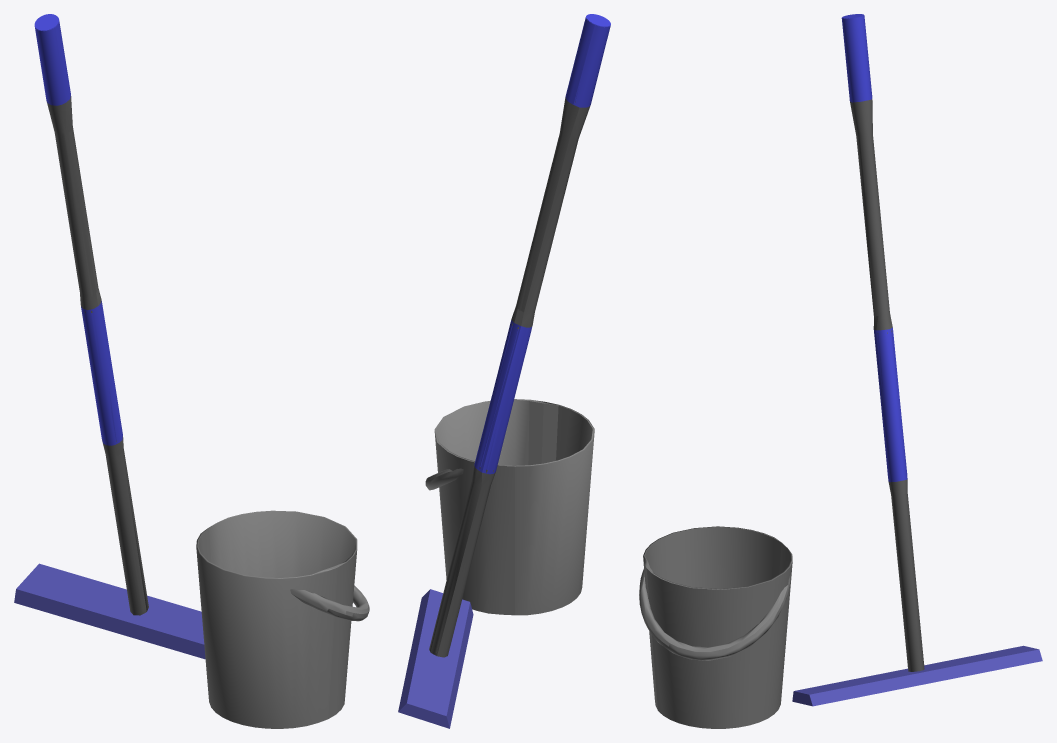
Rendered from Mop.fbx.
3 renders of one model, left to right at view 1: azimuth 30°, elevation 25°; view 2: azimuth 150°, elevation 25°; view 3: azimuth 270°, elevation 25°, orthographic. The views are drawn at different scales.
Visible parts, largest first — view 1: Cylinder.003; view 2: Cylinder.003; view 3: Cylinder.003.
Part boxes in pixels (x1=…): Cylinder.003: x1=14, y1=14, x2=369, y2=728; Cylinder.003: x1=398, y1=14, x2=610, y2=728; Cylinder.003: x1=639, y1=14, x2=1042, y2=728.
Bounding box in the file's own units: 294 × 753 × 446.
